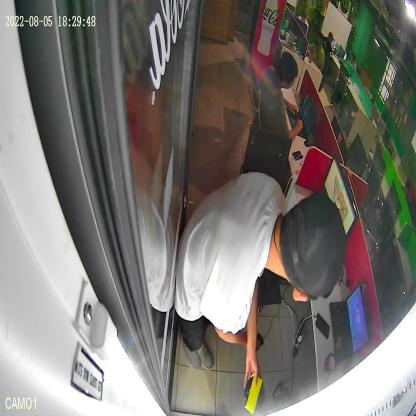yellow: (243, 372, 265, 414)
